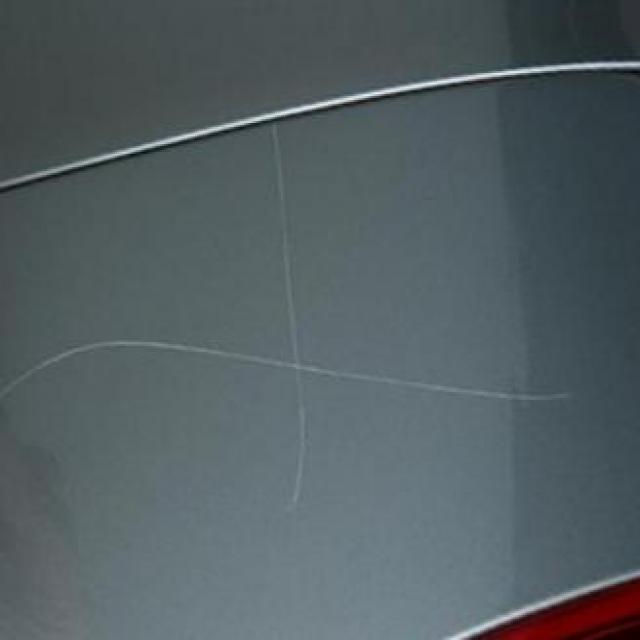scratch: (0, 336, 578, 414), (268, 122, 315, 516)
